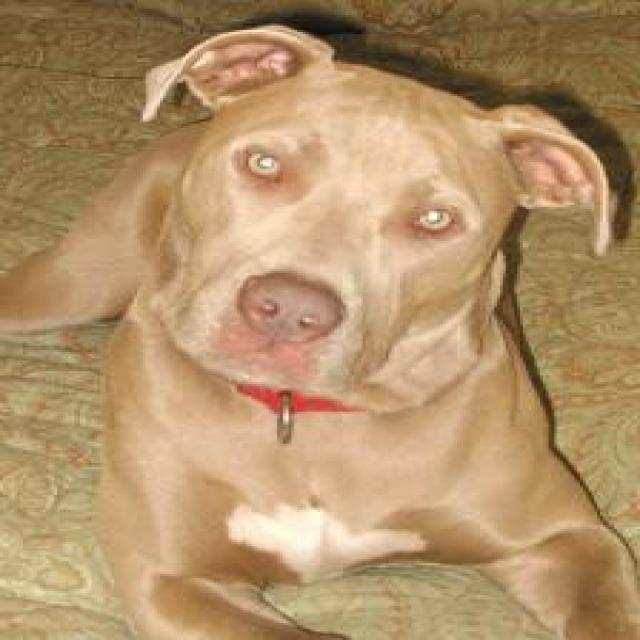dog-american_pit_bull_terrier: (3, 17, 634, 636)
